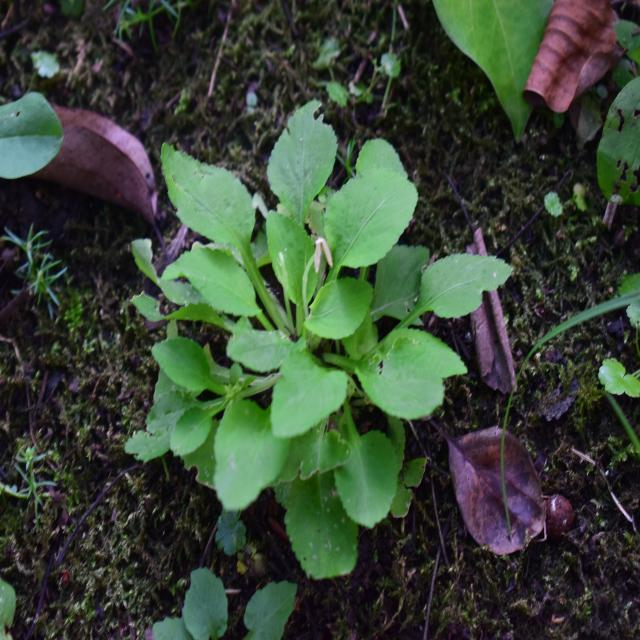Viola: (161, 145, 473, 527)
